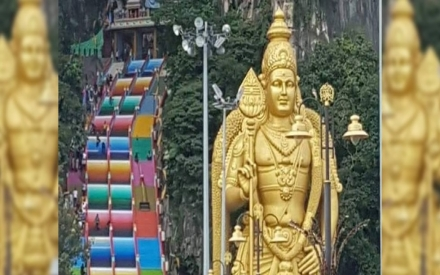Hindu Temple: (203, 4, 358, 268)
